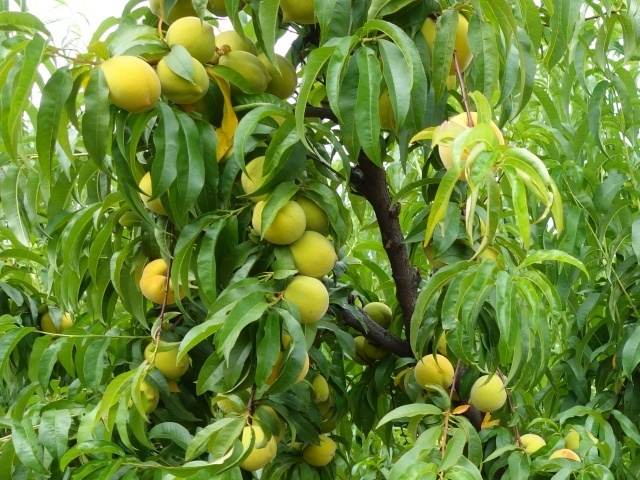peach: (435, 103, 507, 180), (413, 10, 485, 81), (95, 54, 163, 117), (153, 51, 215, 106), (247, 194, 309, 248), (276, 273, 335, 328), (288, 226, 344, 282), (135, 256, 191, 310), (260, 332, 314, 388), (216, 44, 275, 94), (163, 17, 221, 65), (237, 152, 288, 206), (228, 424, 281, 475), (251, 50, 302, 101), (140, 334, 195, 380), (132, 165, 176, 220), (289, 186, 338, 233), (466, 372, 512, 418), (411, 352, 458, 395), (208, 25, 260, 62), (35, 305, 80, 341), (298, 432, 341, 469), (271, 1, 324, 29), (511, 428, 548, 466), (141, 1, 200, 24), (360, 297, 396, 332), (132, 377, 164, 415), (346, 332, 377, 368), (546, 444, 584, 471), (309, 373, 333, 408)
